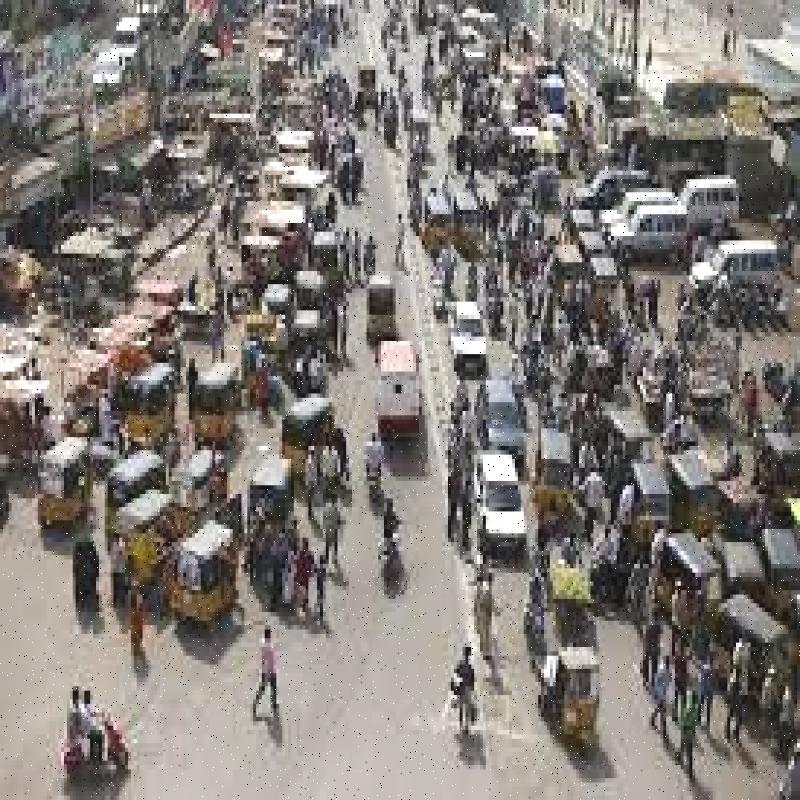auto: (528, 648, 612, 759), (171, 538, 257, 639), (104, 490, 178, 585), (183, 362, 259, 454), (38, 444, 97, 526), (354, 269, 405, 355), (282, 394, 340, 467), (128, 371, 178, 450)
car: (470, 444, 536, 565), (445, 296, 511, 380)
